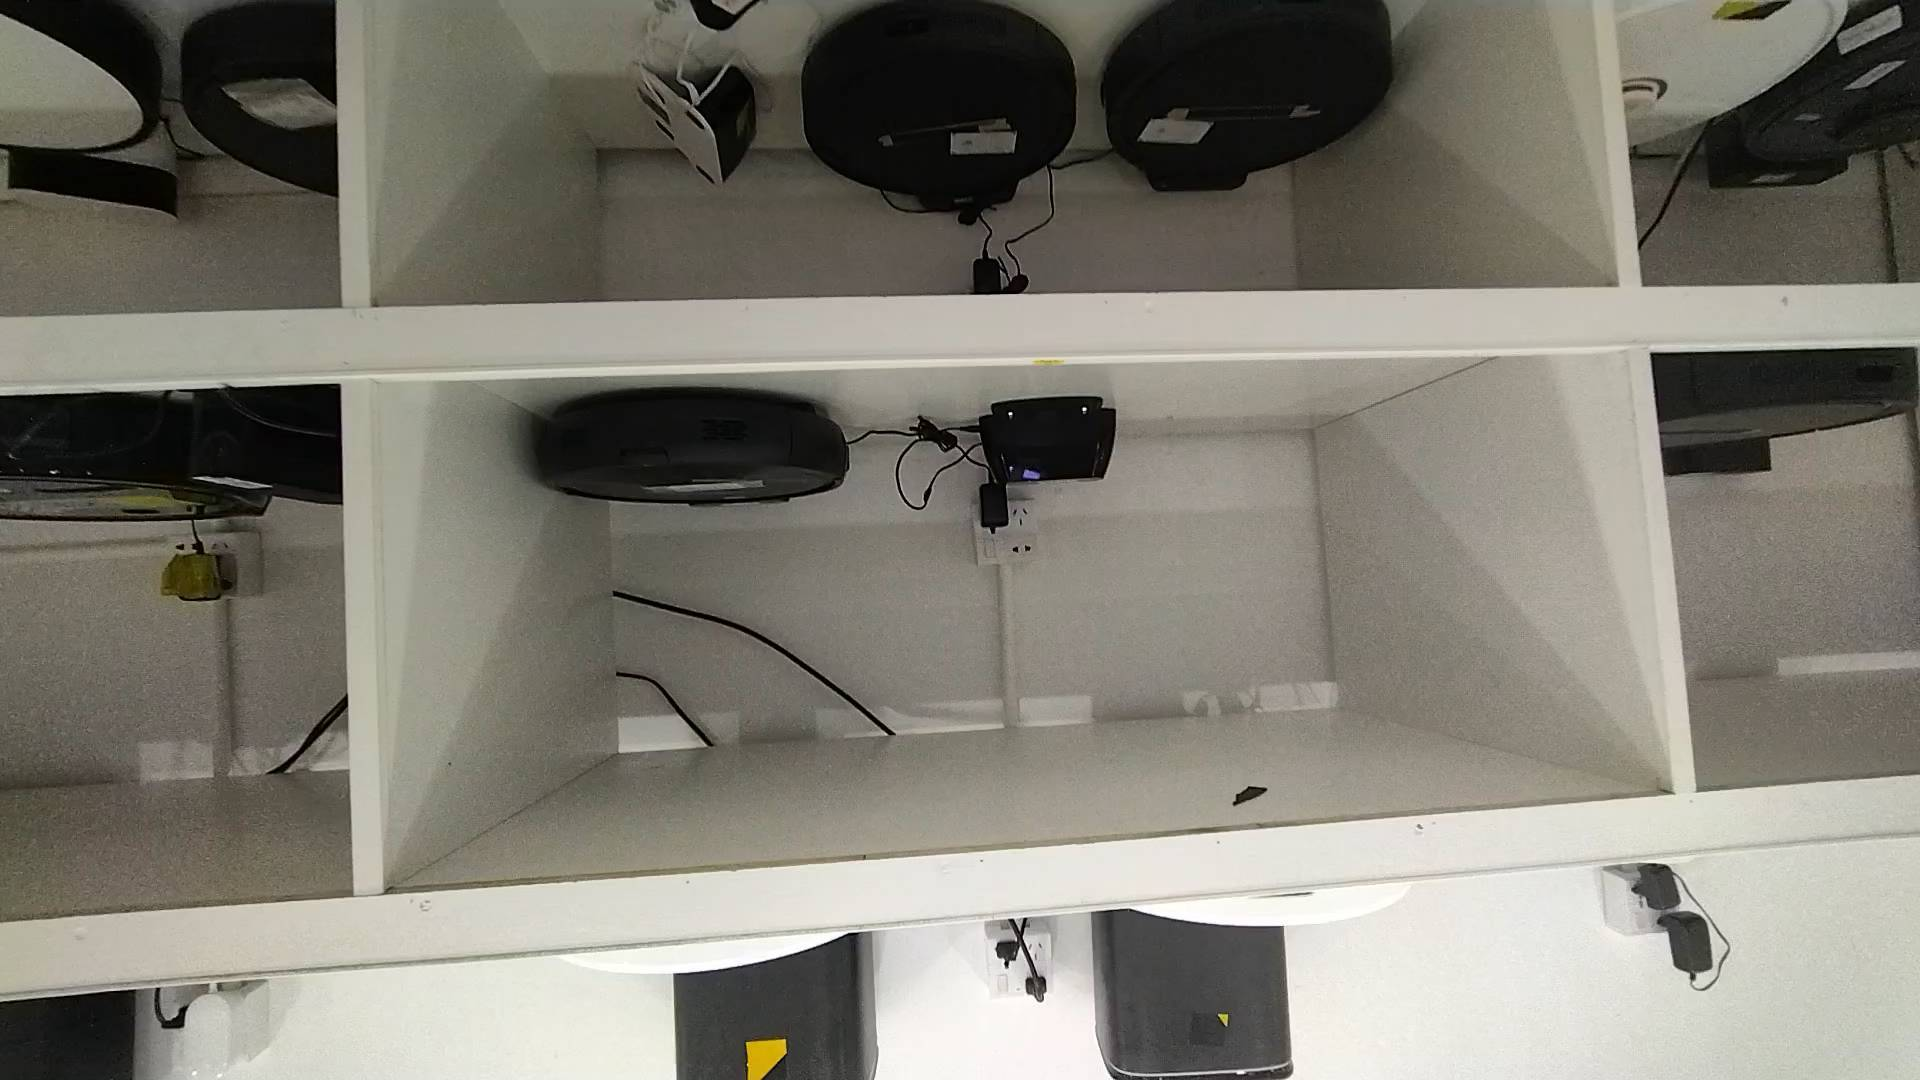dust collecting barrel: (1098, 911, 1302, 1080)
recharge seat: (636, 61, 760, 187), (982, 393, 1120, 481)
